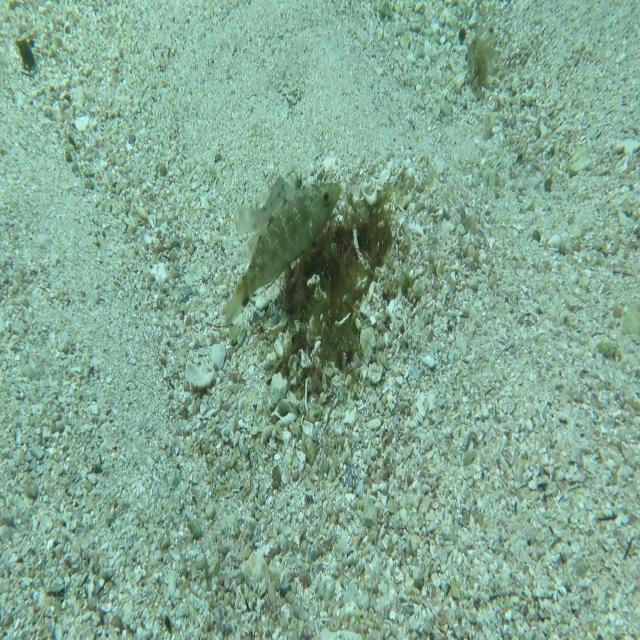FAN: (221, 168, 343, 327)
core_nest: (334, 218, 387, 265)
female: (235, 174, 292, 242)
nest: (274, 168, 412, 410)
